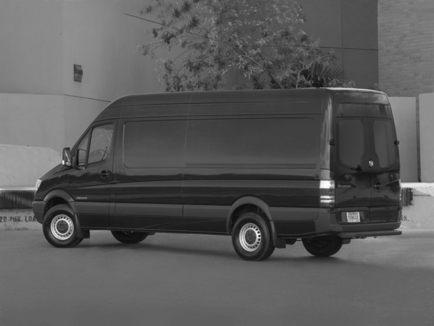car: (34, 89, 402, 261)
